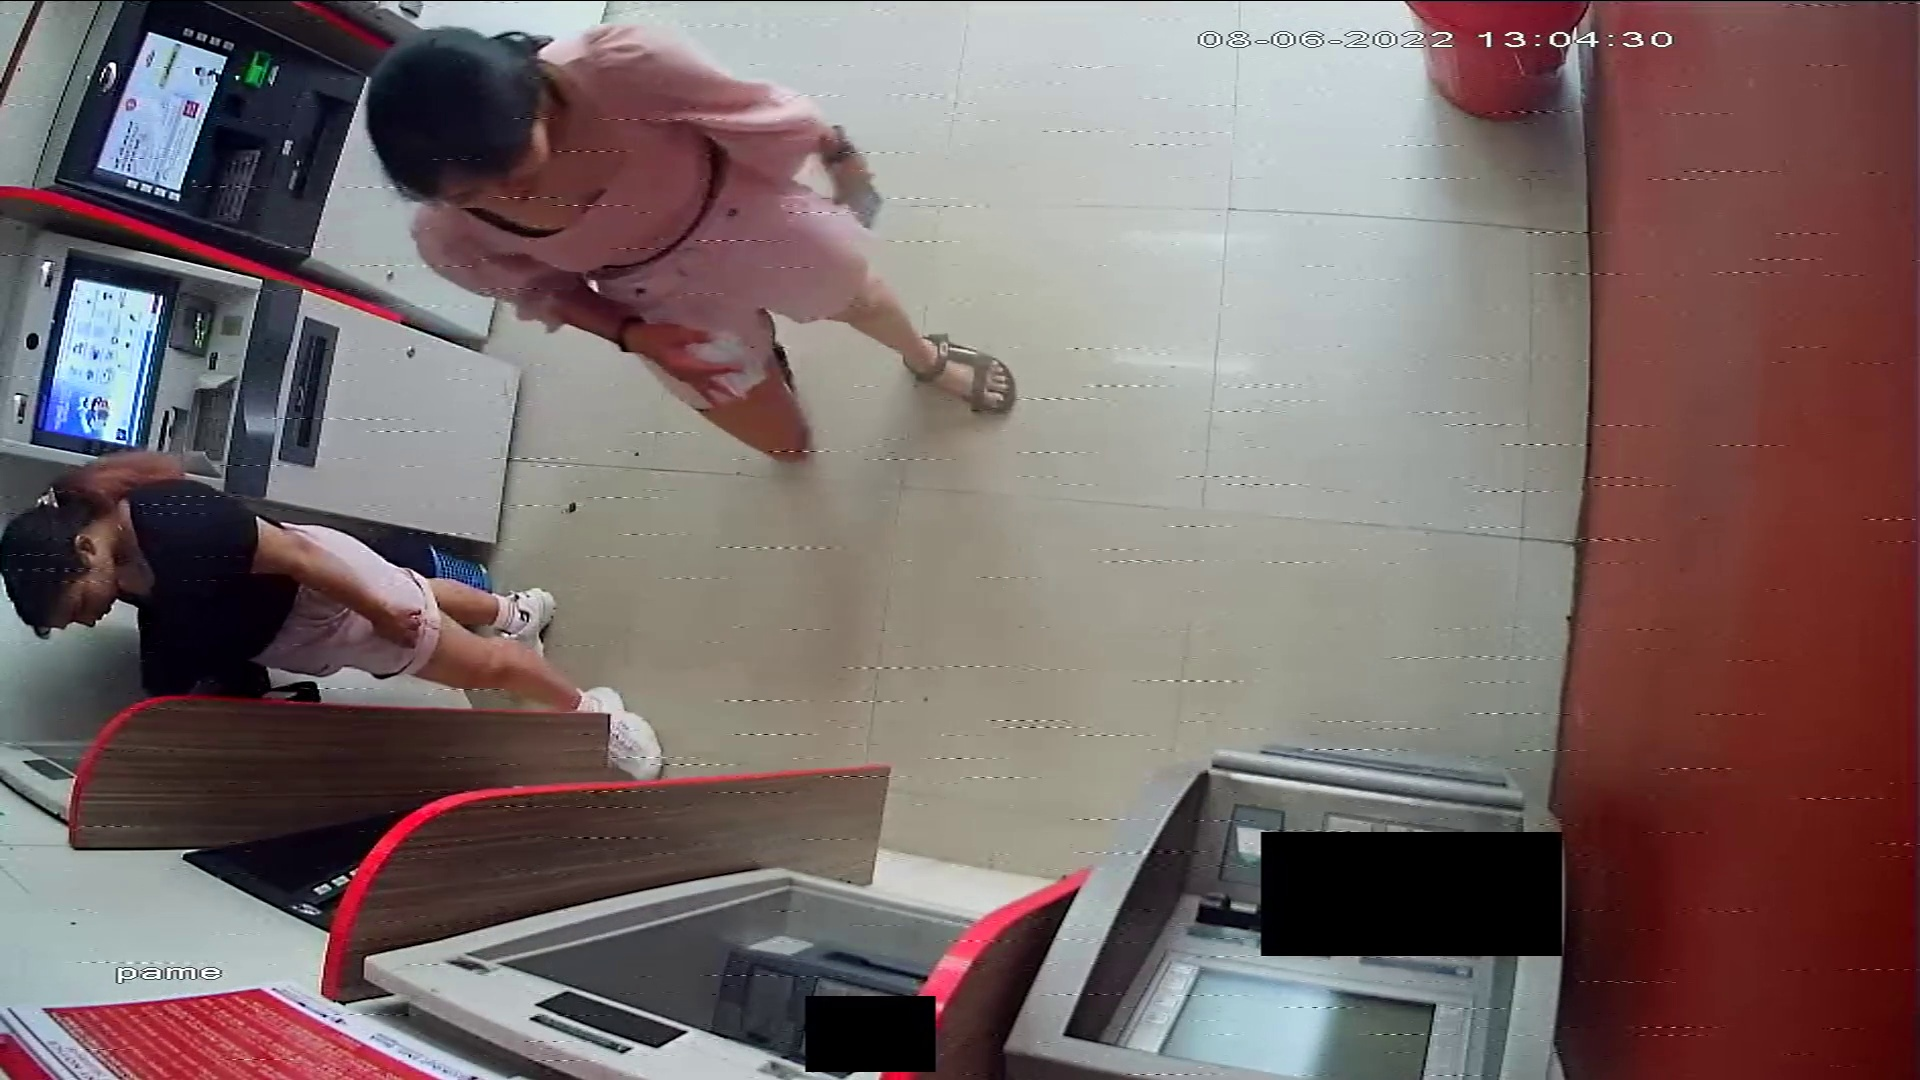person: (363, 21, 1022, 460), (1, 459, 669, 780)
